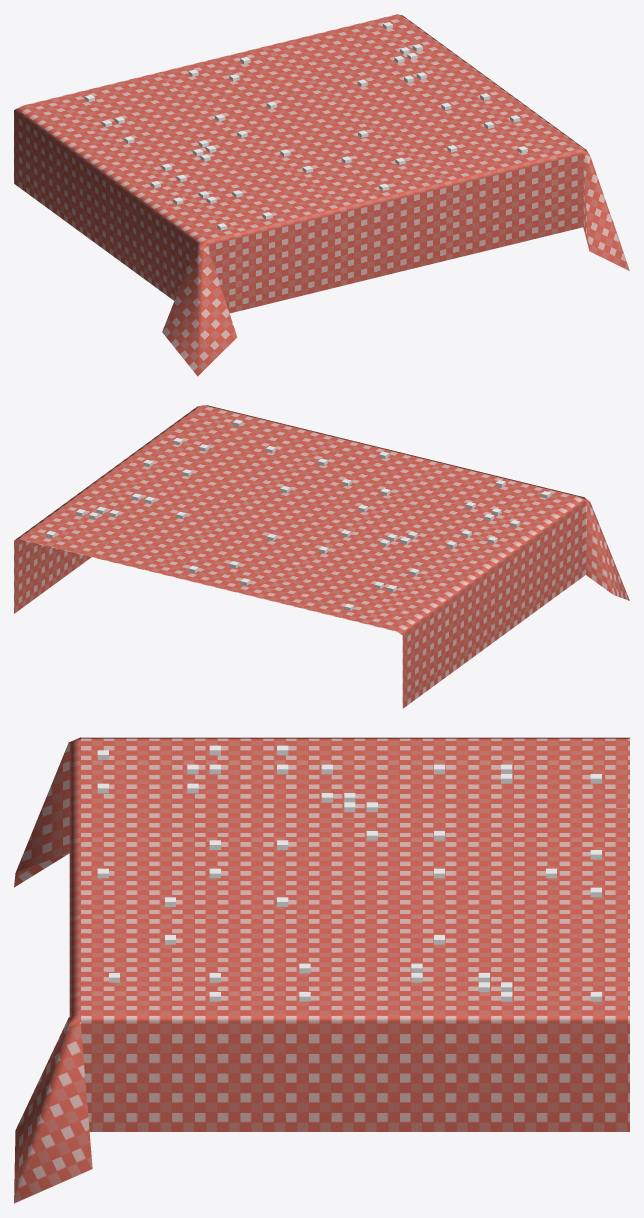
3 views of the same model, one above another, from view 1: azimuth 30°, elevation 25°; view 2: azimuth 150°, elevation 25°; view 3: azimuth 270°, elevation 25° (orthographic). The views are drawn at different scales.
Visible parts, largest first — view 1: Table; view 2: Table; view 3: Table.
Boxes of the visible parts, left/top/right/bottom form: Table: left=14, top=14, right=629, bottom=376; Table: left=14, top=405, right=629, bottom=708; Table: left=14, top=737, right=629, bottom=1203.
Bounding box in the file's own units: 69.65 × 17.18 × 54.97.
